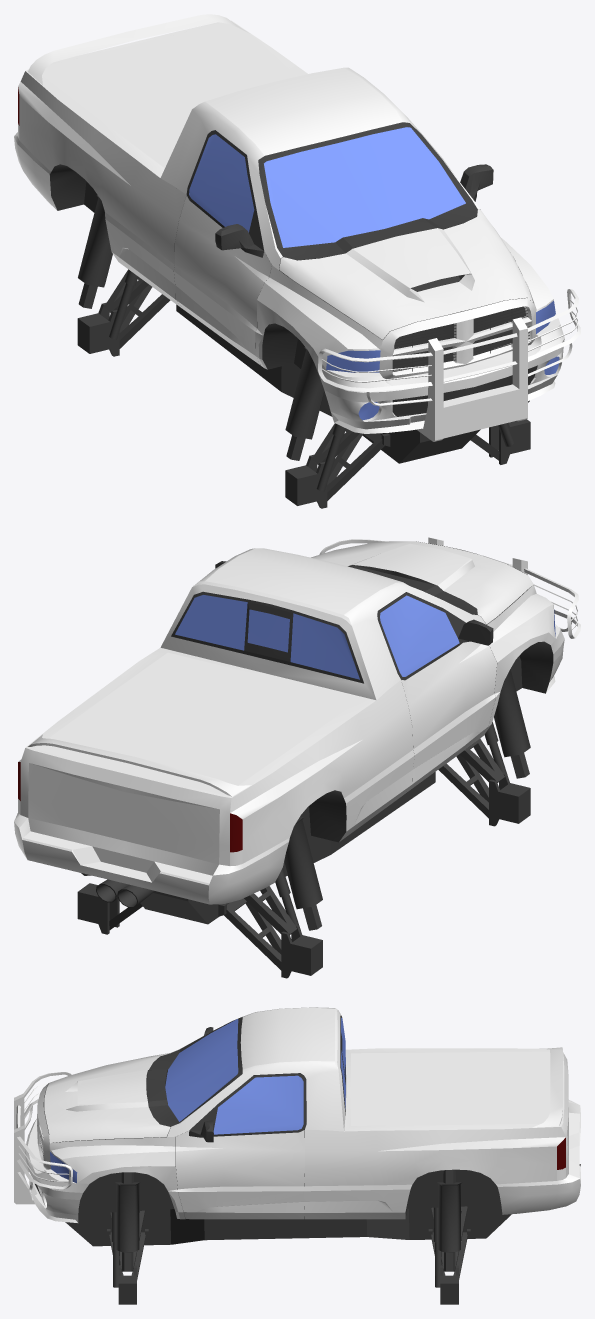
The picture shows the model from 3 angles, top to bottom: view 1: azimuth 30°, elevation 25°; view 2: azimuth 150°, elevation 25°; view 3: azimuth 270°, elevation 25°; orthographic projection. The views are drawn at different scales.
Visible parts, largest first — view 1: MT_02_Body, MT_02_Hood, MT_02_Roof, MT_02_Glass_F, MT_02_Door_R, MT_02_Glass_R, MT_02_LightGlass_R, MT_02_Door_R001; view 2: MT_02_Body, MT_02_Roof, MT_02_Door_R, MT_02_Hood, MT_02_Glass_R, MT_02_Glass_BL, MT_02_Glass_B, MT_02_Glass_BC, MT_02_Tailights; view 3: MT_02_Body, MT_02_Door_R001, MT_02_Roof, MT_02_Hood, MT_02_Glass_F, MT_02_Glass_L.
Boxes of the visible parts, left/top/right/bottom form: MT_02_Body: left=14, top=14, right=580, bottom=508; MT_02_Hood: left=279, top=209, right=533, bottom=339; MT_02_Roof: left=160, top=67, right=480, bottom=269; MT_02_Glass_F: left=264, top=127, right=465, bottom=247; MT_02_Door_R: left=174, top=130, right=271, bottom=365; MT_02_Glass_R: left=189, top=134, right=254, bottom=232; MT_02_LightGlass_R: left=326, top=350, right=380, bottom=372; MT_02_Door_R001: left=460, top=164, right=493, bottom=201; MT_02_Body: left=14, top=537, right=580, bottom=978; MT_02_Roof: left=160, top=548, right=486, bottom=700; MT_02_Door_R: left=377, top=592, right=496, bottom=793; MT_02_Hood: left=311, top=541, right=533, bottom=624; MT_02_Glass_R: left=380, top=595, right=459, bottom=676; MT_02_Glass_BL: left=175, top=595, right=247, bottom=650; MT_02_Glass_B: left=290, top=613, right=359, bottom=679; MT_02_Glass_BC: left=247, top=609, right=289, bottom=652; MT_02_Tailights: left=18, top=762, right=242, bottom=865; MT_02_Body: left=14, top=1047, right=580, bottom=1304; MT_02_Door_R001: left=176, top=1073, right=306, bottom=1219; MT_02_Roof: left=167, top=1007, right=346, bottom=1136; MT_02_Hood: left=44, top=1053, right=170, bottom=1142; MT_02_Glass_F: left=165, top=1019, right=238, bottom=1121; MT_02_Glass_L: left=213, top=1075, right=303, bottom=1134.
Bounding box in the file's own units: 256 × 269 × 589.
